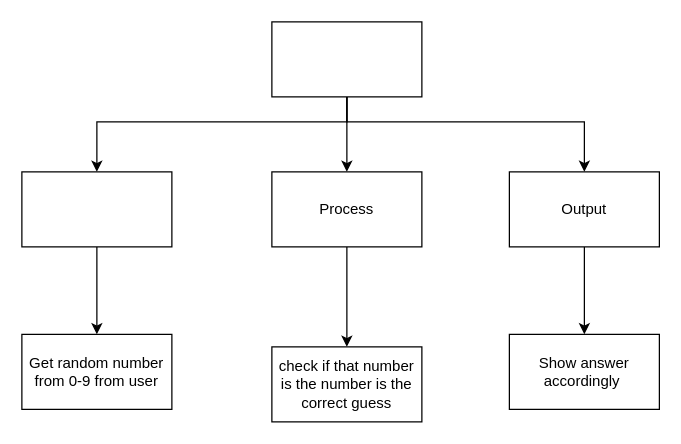
This 681x444 diagram has some shape labels left out. Each missing label, with the centre of its shape:
"Input" belongs at [96,209].
"Number game" belongs at [346,59].
